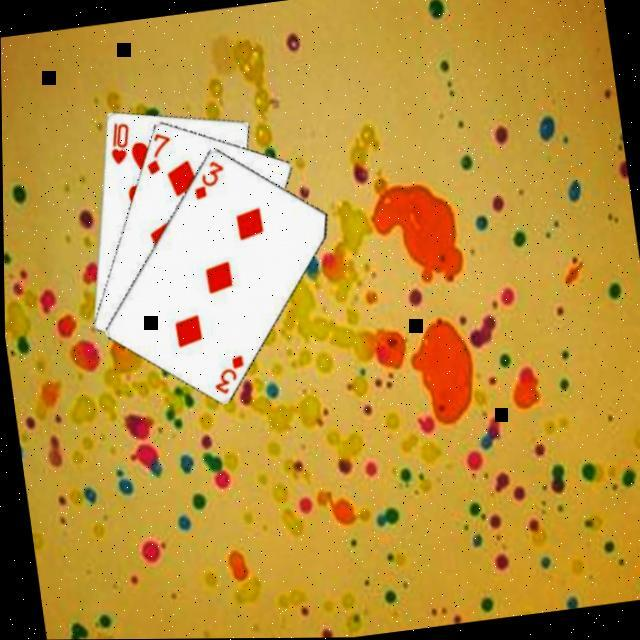10H: (104, 119, 136, 169)
3D: (188, 158, 232, 205), (207, 352, 251, 398)
7D: (140, 130, 178, 180)
